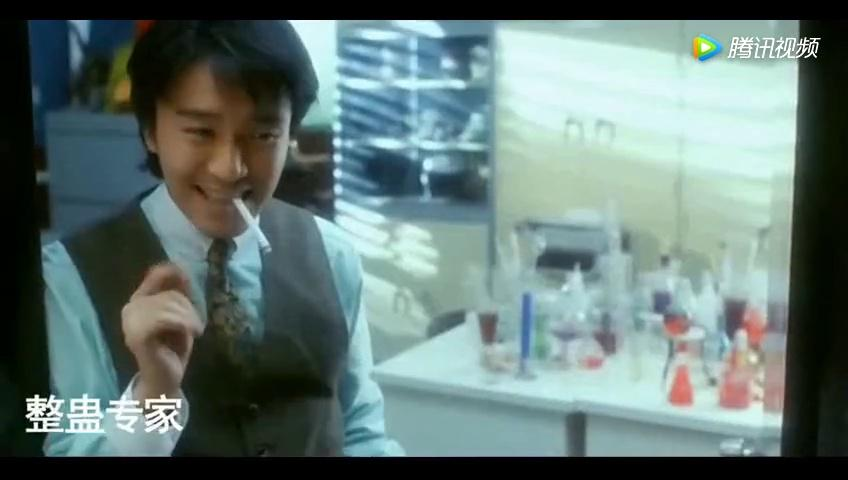smoke: (231, 195, 275, 260)
